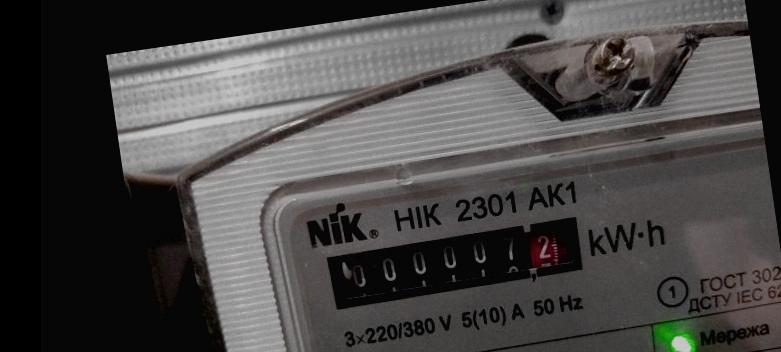0: (409, 247, 431, 277), (380, 254, 401, 284), (349, 260, 370, 289), (470, 236, 490, 266), (441, 241, 459, 270)
2: (535, 231, 555, 262)
7: (500, 233, 520, 264)
screen: (318, 206, 598, 316)
